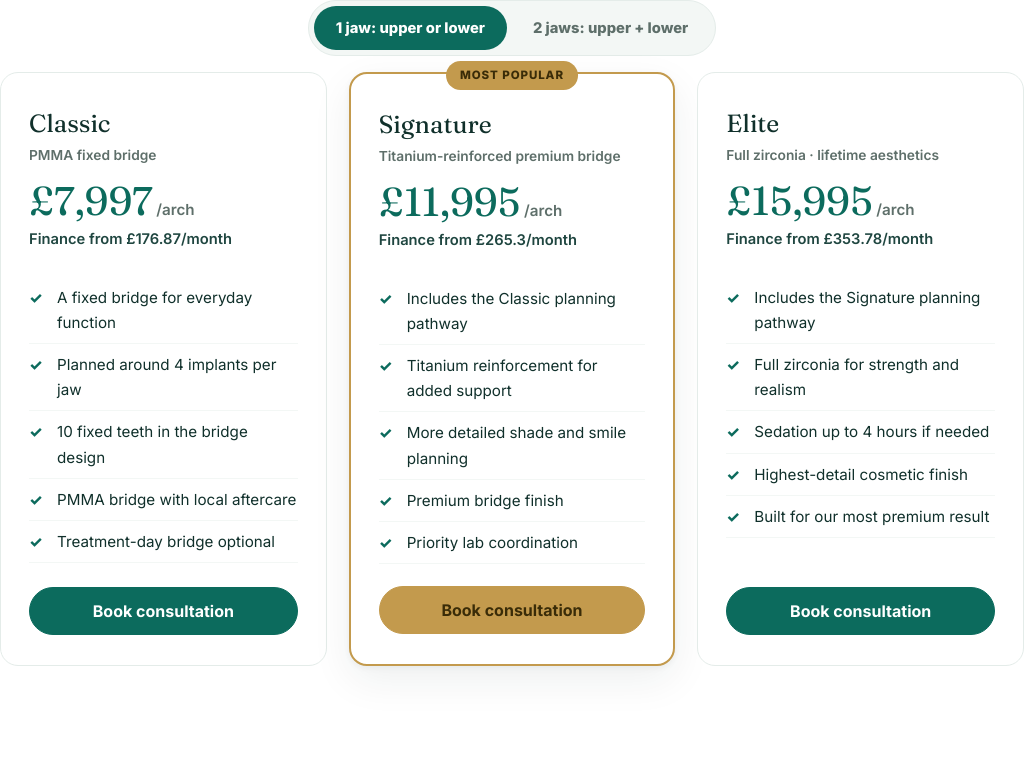
PricingToggle › switches to full-mouth prices when the 2-jaw tab is selected
The width and height of the screenshot is (1024, 768).
Click the tab "2 jaws: upper + lower" at (611, 28), box [511,6,710,50]
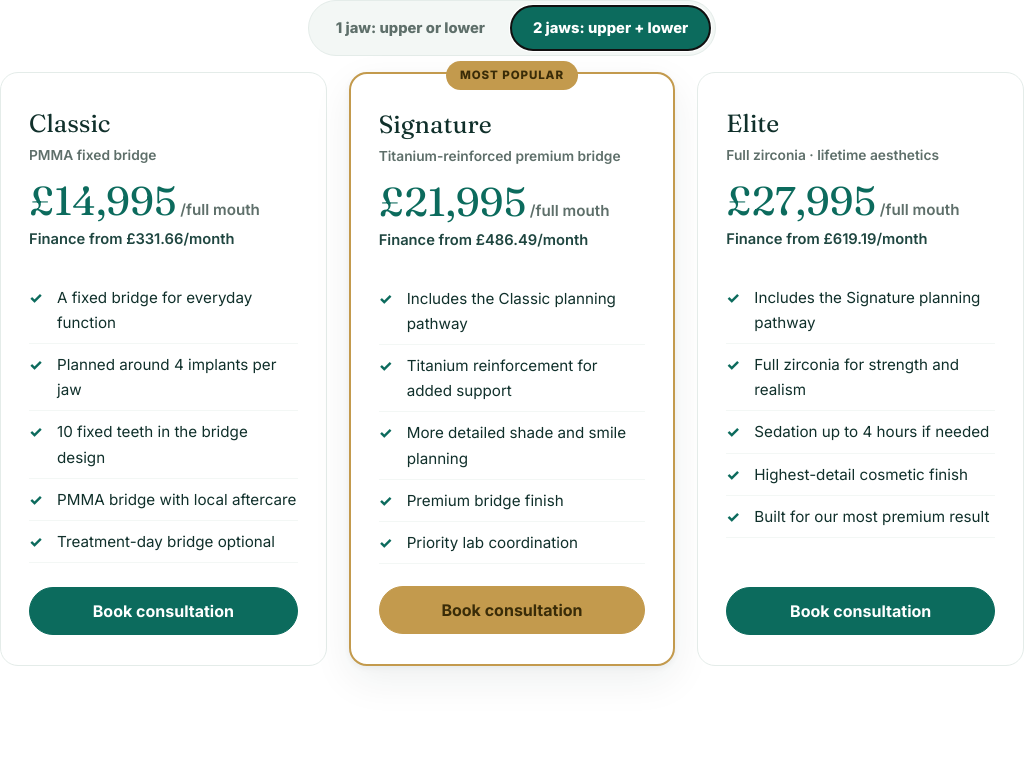
Expected: the text "£14,995" is shown, [29,176,176,225]
